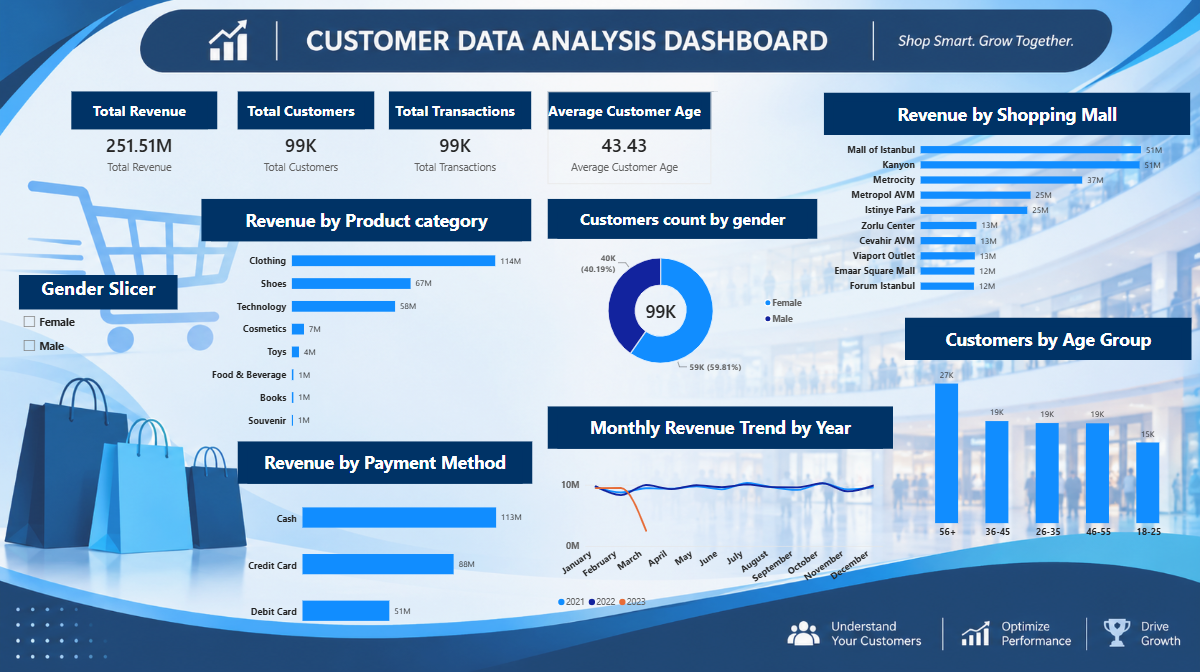

Layout of this report page (visuals, bound fields, positions):
{"tool":"powerbi","page":{"name":"Page 1","canvas":[1920,1080],"ordinal":0},"visuals":[{"type":"card","title":"Total Revenue","fields":{"Values":["customer.Total Revenue"]},"box":[113.2,145.3,234,149.1],"z":0},{"type":"card","title":"Total Customers","fields":{"Values":["customer.Total Customers"]},"box":[379.2,145.3,218.9,149.1],"z":1000},{"type":"card","title":"Total Transactions","fields":{"Values":["customer.Total Transactions"]},"box":[622.6,145.3,228.3,149.1],"z":2000},{"type":"card","title":"Average Customer Age","fields":{"Values":["customer.Average Customer Age"]},"box":[875.5,145.3,262.3,149.1],"z":3000},{"type":"clusteredBarChart","title":"Revenue by Product category","fields":{"Category":["customer.category"],"Y":["customer.Total Revenue"]},"box":[322.6,318.9,528.3,394.3],"z":4000},{"type":"lineChart","title":"Monthly Revenue Trend by Year","fields":{"Category":["customer.invoice_date.Variation.Date Hierarchy.Month"],"Series":["customer.invoice_date.Variation.Date Hierarchy.Year"],"Y":["customer.Total Revenue"]},"box":[875.5,649.1,552.8,343.4],"z":5000},{"type":"donutChart","title":"Customers count by gender","fields":{"Category":["customer.gender"],"Y":["customer.Total Customers"]},"box":[875.5,318.9,432.1,309.4],"z":6000},{"type":"clusteredColumnChart","title":"Customers by Age Group","fields":{"Category":["customer.Age Group"],"Y":["CountNonNull(customer.customer_id)"]},"box":[1447.2,507.5,458.5,373.6],"z":7000},{"type":"clusteredBarChart","title":"Revenue by Payment Method","fields":{"Category":["customer.payment_method"],"Y":["customer.Total Revenue"]},"box":[379.2,705.7,471.7,337.7],"z":8000},{"type":"clusteredBarChart","title":"Revenue by Shopping Mall","fields":{"Category":["customer.shopping_mall"],"Y":["customer.Total Revenue"]},"box":[1318.9,147.2,586.8,341.5],"z":9000},{"type":"slicer","title":"Gender Slicer","fields":{"Values":["customer.gender"]},"box":[30.2,439.6,254.7,137.7],"z":10000}]}

Visuals, with their boxes in screenshot pixels (x1, y1, x2, y2), scaled from the page's 1920x1080 canvas onto the 1200x672 screenshot:
"Total Revenue" card: left=71, top=90, right=217, bottom=183
"Total Customers" card: left=237, top=90, right=374, bottom=183
"Total Transactions" card: left=389, top=90, right=532, bottom=183
"Average Customer Age" card: left=547, top=90, right=711, bottom=183
"Revenue by Product category" clusteredBarChart: left=202, top=198, right=532, bottom=444
"Monthly Revenue Trend by Year" lineChart: left=547, top=404, right=893, bottom=618
"Customers count by gender" donutChart: left=547, top=198, right=817, bottom=391
"Customers by Age Group" clusteredColumnChart: left=904, top=316, right=1191, bottom=548
"Revenue by Payment Method" clusteredBarChart: left=237, top=439, right=532, bottom=649
"Revenue by Shopping Mall" clusteredBarChart: left=824, top=92, right=1191, bottom=304
"Gender Slicer" slicer: left=19, top=274, right=178, bottom=359
